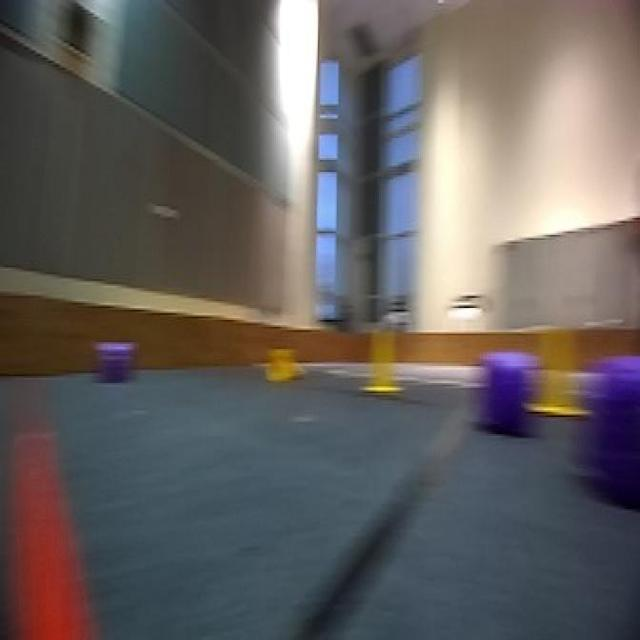frc_cone: (527, 322, 595, 418), (363, 320, 406, 398), (263, 338, 309, 392)
frc_cube: (586, 355, 640, 517), (481, 359, 535, 432), (100, 339, 129, 388)
